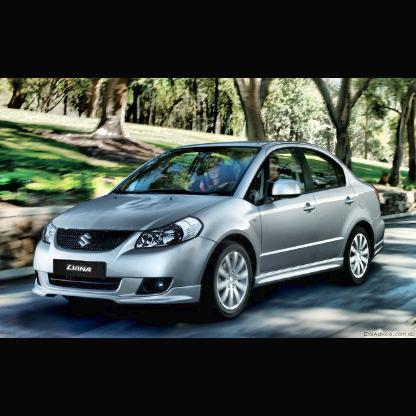Suzuki SX4 Sedan 2012: (33, 140, 388, 323)
